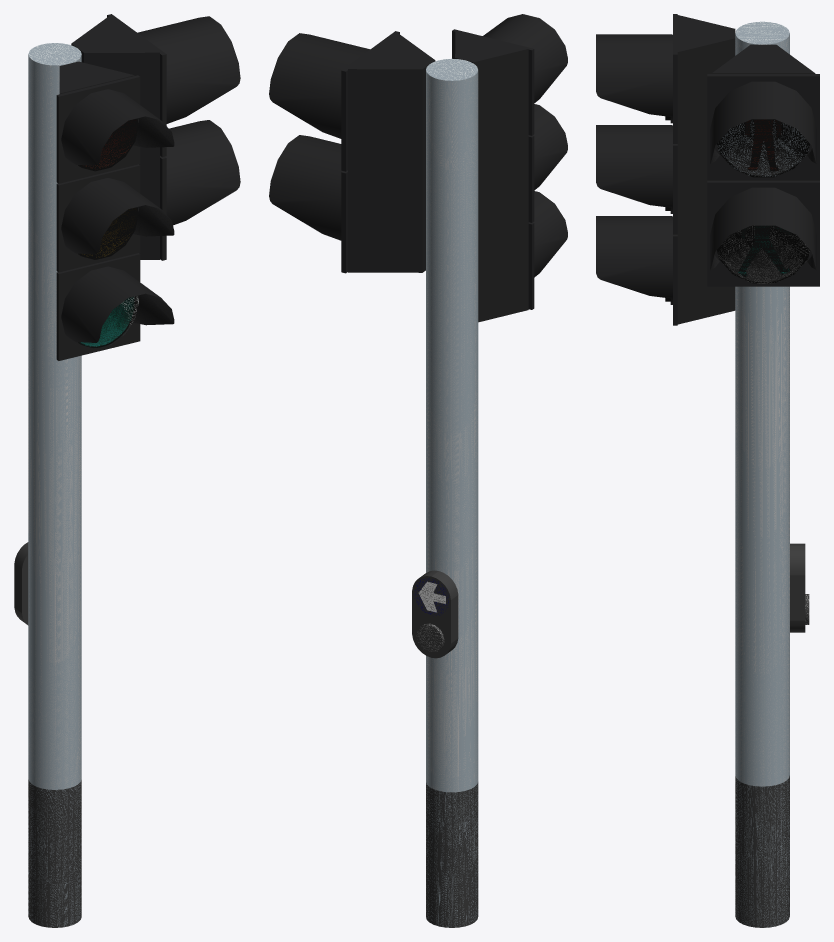
The model's file is traffic_light_small.fbx.
3 renders of one model, left to right at view 1: azimuth 30°, elevation 25°; view 2: azimuth 150°, elevation 25°; view 3: azimuth 270°, elevation 25°, orthographic. The views are drawn at different scales.
Visible parts, largest first — view 1: Group1, Group3, Group4, Group2; view 2: Group1, Group4, Group3, Group2; view 3: Group1, Group3, Group4, Group2.
Part boxes in pixels (x1,y1,x2,y2): Group1: (28,43,81,927); Group3: (56,61,174,360); Group4: (71,14,240,260); Group2: (14,542,28,625); Group1: (426,58,478,927); Group4: (269,31,435,273); Group3: (452,14,567,322); Group2: (412,570,458,658); Group1: (735,21,789,927); Group3: (596,14,735,325); Group4: (707,44,819,286); Group2: (790,543,809,632).
Size of the model in its own units: 0.6089 by 2.5 by 0.5743.
